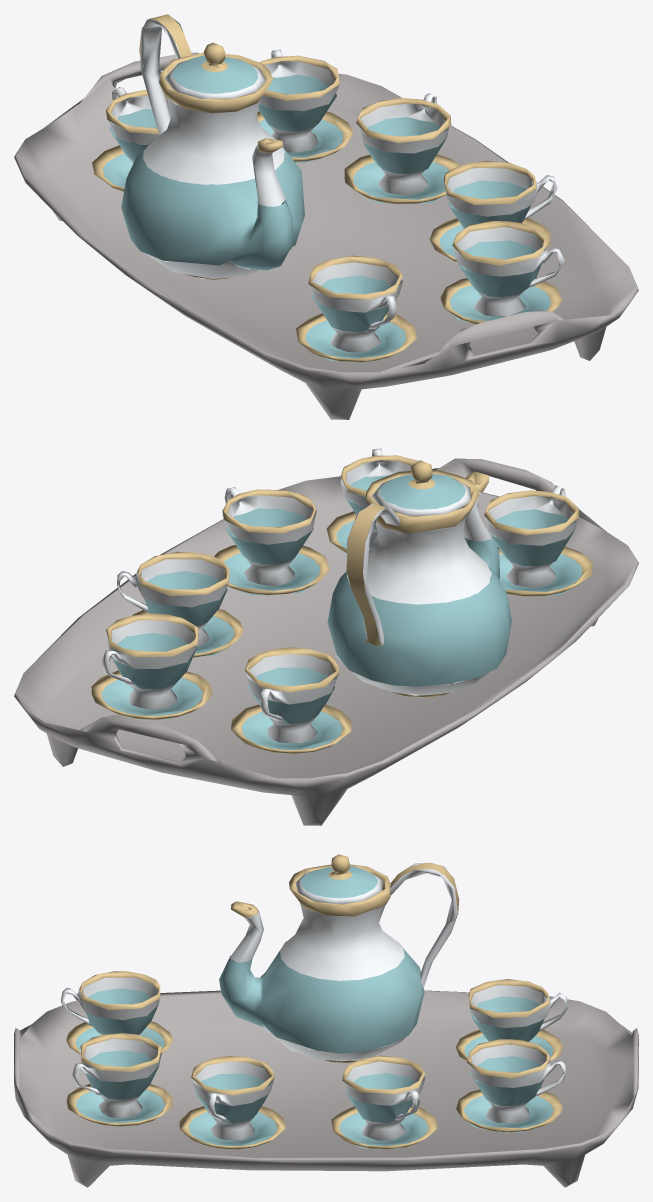
File: obj_tea_set.glb
3 renders of one model, top to bottom at view 1: azimuth 30°, elevation 25°; view 2: azimuth 150°, elevation 25°; view 3: azimuth 270°, elevation 25°, orthographic. The views are drawn at different scales.
Visible parts, largest first — view 1: Plane_0; view 2: Plane_0; view 3: Plane_0.
Part boxes in pixels (x1,y1,x2,y2): Plane_0: [14, 14, 638, 419]; Plane_0: [14, 448, 638, 825]; Plane_0: [14, 854, 638, 1187].
Size of the model in its own units: 0.2932 by 0.1844 by 0.4498.
